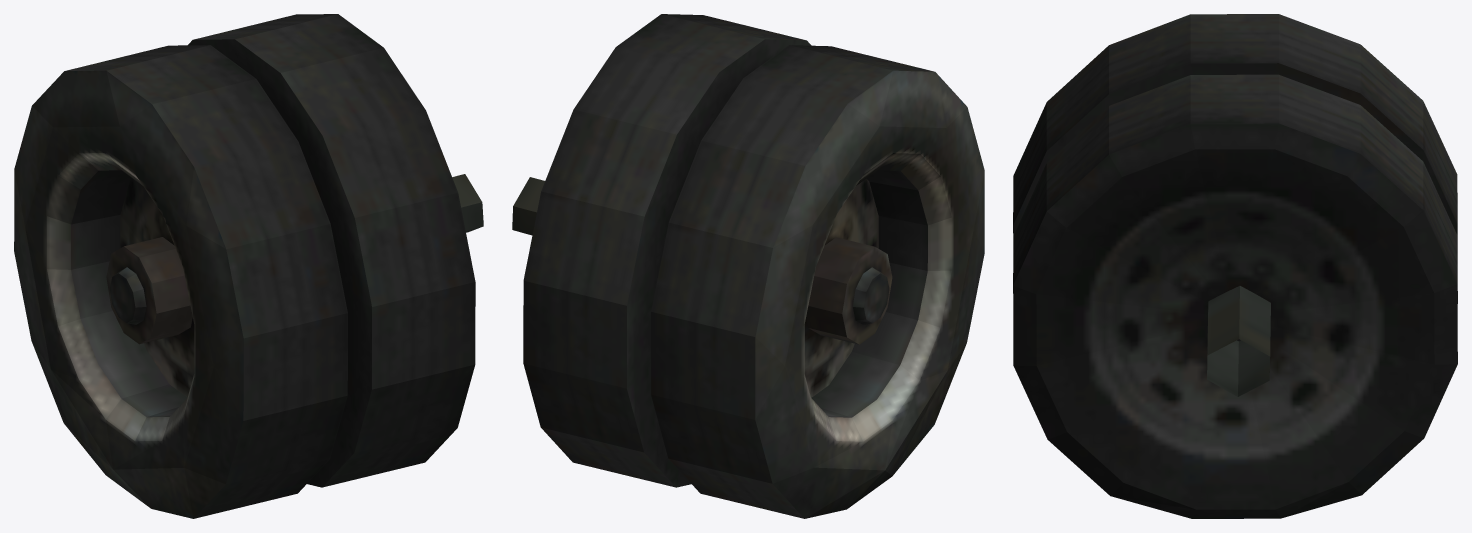
File: double_wheel.obj
3 views of the same model, side by side, from view 1: azimuth 30°, elevation 25°; view 2: azimuth 150°, elevation 25°; view 3: azimuth 270°, elevation 25° (orthographic). The views are drawn at different scales.
Visible parts, largest first — view 1: (null); view 2: (null); view 3: (null).
Part boxes in pixels (<box>): (null): <box>14,14,483,518</box>; (null): <box>512,14,984,518</box>; (null): <box>1013,14,1457,518</box>.
Size of the model in its own units: 2.45 by 2.66 by 2.73.
Materials: 1 (1 with a texture image).
